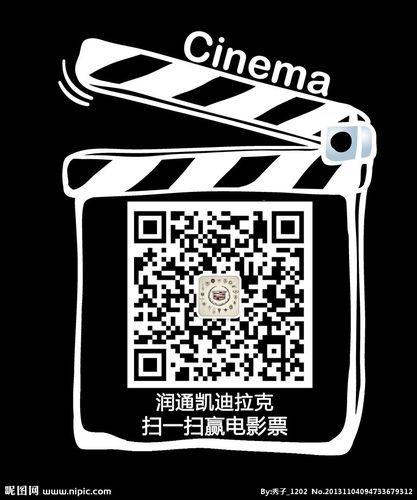QRCode: (130, 209, 311, 385)
